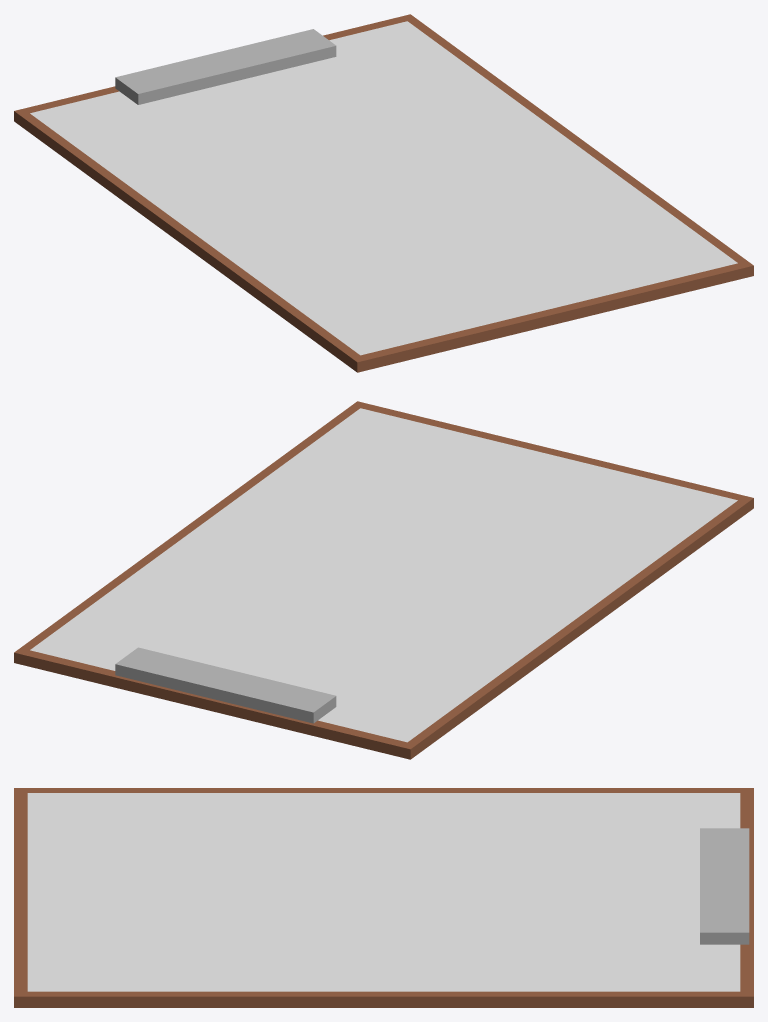
File: Bloco_Notas.fbx
3 views of the same model, one above another, from view 1: azimuth 30°, elevation 25°; view 2: azimuth 150°, elevation 25°; view 3: azimuth 270°, elevation 25° (orthographic). The views are drawn at different scales.
Visible parts, largest first — view 1: BlocoNotas; view 2: BlocoNotas; view 3: BlocoNotas.
Part boxes in pixels (x1,y1,x2,y2): BlocoNotas: (14, 14, 753, 372); BlocoNotas: (14, 401, 753, 759); BlocoNotas: (14, 788, 753, 1007).
Bounding box in the file's own units: 40 × 2.06 × 60.
